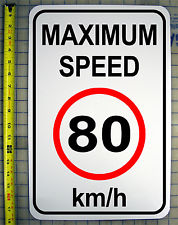Speed_limit_80km: (53, 88, 146, 180)
